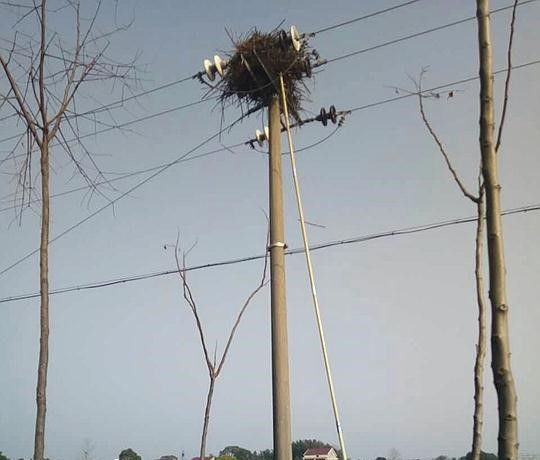niaowo: (220, 23, 317, 116)
